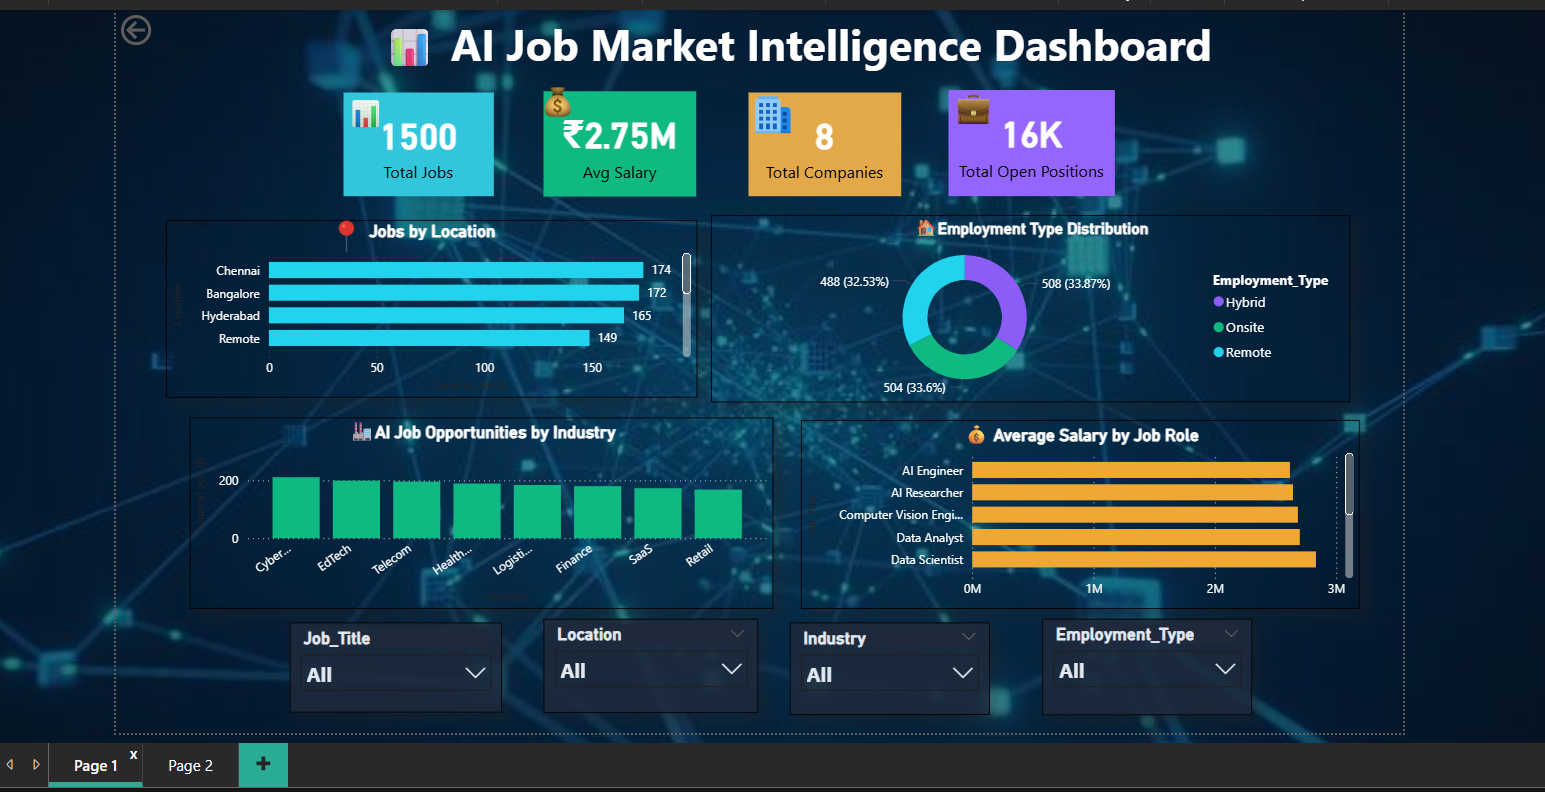

The dashboard page shown, as its layout file describes it:
{"tool":"powerbi","page":{"name":"Page 1","canvas":[1280,720],"ordinal":0},"visuals":[{"type":"card","fields":{"Values":["AI_Job_Market_No_Duplicates_1500_Rows.Total Jobs"]},"box":[226.4,82.1,149.3,103.2],"z":0},{"type":"card","fields":{"Values":["AI_Job_Market_No_Duplicates_1500_Rows.Total Companies"]},"box":[629.4,82.1,151.8,103.2],"z":1000},{"type":"card","fields":{"Values":["AI_Job_Market_No_Duplicates_1500_Rows.Total Open Positions"]},"box":[828.5,79.6,165.4,105.7],"z":2000},{"type":"textbox","box":[226.4,0,952.9,92.1],"z":3000},{"type":"image","box":[209,79.6,79.6,47.3],"z":4000},{"type":"image","box":[625.7,74.6,56,58.5],"z":5000},{"type":"image","box":[828.5,72.1,49.8,54.7],"z":6000},{"type":"clusteredBarChart","title":"Jobs by Location","fields":{"Category":["AI_Job_Market_No_Duplicates_1500_Rows.Location"],"Y":["CountNonNull(AI_Job_Market_No_Duplicates_1500_Rows.Job_ID)"]},"box":[49.8,209,528.7,176.6],"z":7000},{"type":"donutChart","title":"🏠Employment Type Distribution","fields":{"Category":["AI_Job_Market_No_Duplicates_1500_Rows.Employment_Type"],"Y":["CountNonNull(AI_Job_Market_No_Duplicates_1500_Rows.Job_ID)"]},"box":[592.1,204,635.7,186.6],"z":8000},{"type":"clusteredColumnChart","title":"🏭AI Job Opportunities by Industry","fields":{"Category":["AI_Job_Market_No_Duplicates_1500_Rows.Industry"],"Y":["CountNonNull(AI_Job_Market_No_Duplicates_1500_Rows.Job_ID)"]},"box":[73.4,405.5,580.9,190.3],"z":9000},{"type":"clusteredBarChart","title":"💰 Average Salary by Job Role","fields":{"Y":["Avg(AI_Job_Market_No_Duplicates_1500_Rows.Salary_INR)"],"Category":["AI_Job_Market_No_Duplicates_1500_Rows.Job_Title"]},"box":[681.7,408,556,187.8],"z":10000},{"type":"card","fields":{"Values":["AI_Job_Market_No_Duplicates_1500_Rows.Avg Salary"]},"box":[425.4,80.9,151.8,104.5],"z":11000},{"type":"image","box":[416.7,68.4,46,46],"z":12000},{"type":"slicer","fields":{"Values":["AI_Job_Market_No_Duplicates_1500_Rows.Job_Title"]},"box":[172.9,609.5,211.5,89.6],"z":13000},{"type":"slicer","fields":{"Values":["AI_Job_Market_No_Duplicates_1500_Rows.Location"]},"box":[425.4,605.8,214,93.3],"z":14000},{"type":"slicer","fields":{"Values":["AI_Job_Market_No_Duplicates_1500_Rows.Industry"]},"box":[670.5,609.5,199,92.1],"z":15000},{"type":"slicer","fields":{"Values":["AI_Job_Market_No_Duplicates_1500_Rows.Employment_Type"]},"box":[921.8,605.8,209,95.8],"z":16000},{"type":"actionButton","box":[0,0,100,40],"z":17000},{"type":"image","box":[209,204,41.1,42.3],"z":18000}]}

Visuals, with their boxes on the page's 1280x720 design canvas (x1, y1, x2, y2). These are canvas units, not pixel positions in the 1545x792 screenshot, which may show the page scaled, cropped or inside an application window:
card - AI_Job_Market_No_Duplicates_1500_Rows.Total Jobs: BBox(226, 82, 376, 185)
card - AI_Job_Market_No_Duplicates_1500_Rows.Total Companies: BBox(629, 82, 781, 185)
card - AI_Job_Market_No_Duplicates_1500_Rows.Total Open Positions: BBox(828, 80, 994, 185)
textbox: BBox(226, 0, 1179, 92)
image: BBox(209, 80, 289, 127)
image: BBox(626, 75, 682, 133)
image: BBox(828, 72, 878, 127)
"Jobs by Location" clusteredBarChart: BBox(50, 209, 578, 386)
"🏠Employment Type Distribution" donutChart: BBox(592, 204, 1228, 391)
"🏭AI Job Opportunities by Industry" clusteredColumnChart: BBox(73, 406, 654, 596)
"💰 Average Salary by Job Role" clusteredBarChart: BBox(682, 408, 1238, 596)
card - AI_Job_Market_No_Duplicates_1500_Rows.Avg Salary: BBox(425, 81, 577, 185)
image: BBox(417, 68, 463, 114)
slicer - AI_Job_Market_No_Duplicates_1500_Rows.Job_Title: BBox(173, 610, 384, 699)
slicer - AI_Job_Market_No_Duplicates_1500_Rows.Location: BBox(425, 606, 639, 699)
slicer - AI_Job_Market_No_Duplicates_1500_Rows.Industry: BBox(670, 610, 870, 702)
slicer - AI_Job_Market_No_Duplicates_1500_Rows.Employment_Type: BBox(922, 606, 1131, 702)
actionButton: BBox(0, 0, 100, 40)
image: BBox(209, 204, 250, 246)
